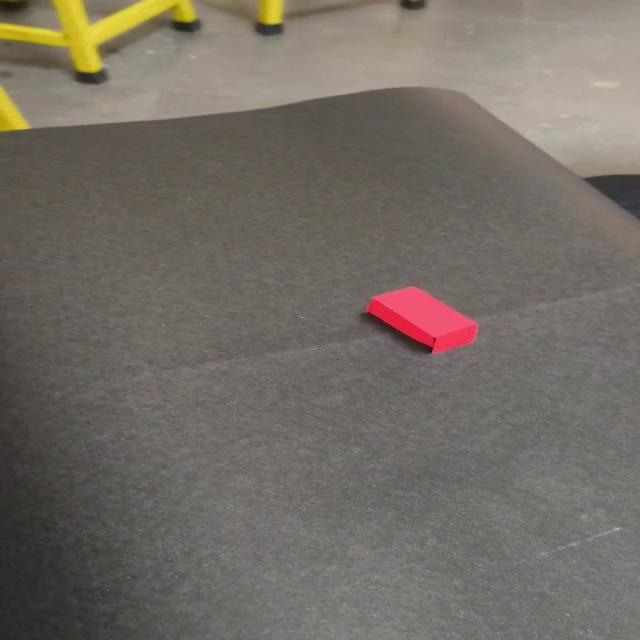red block: (364, 285, 479, 354)
